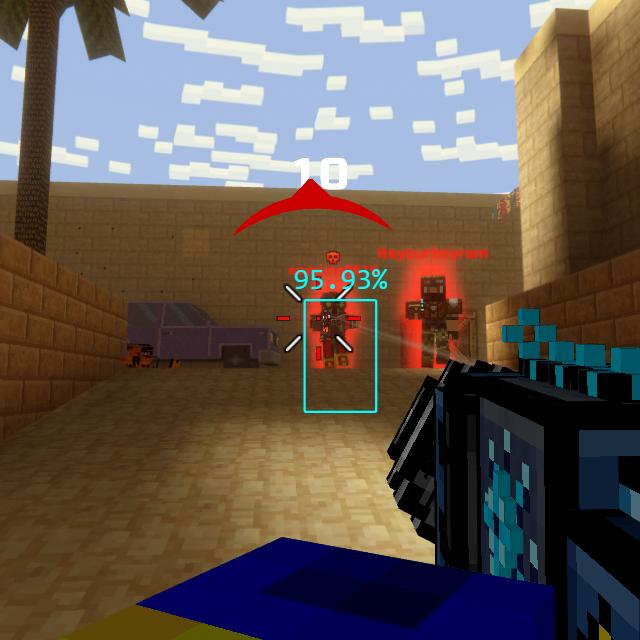Enemy: (405, 275, 463, 368), (310, 292, 358, 368)
